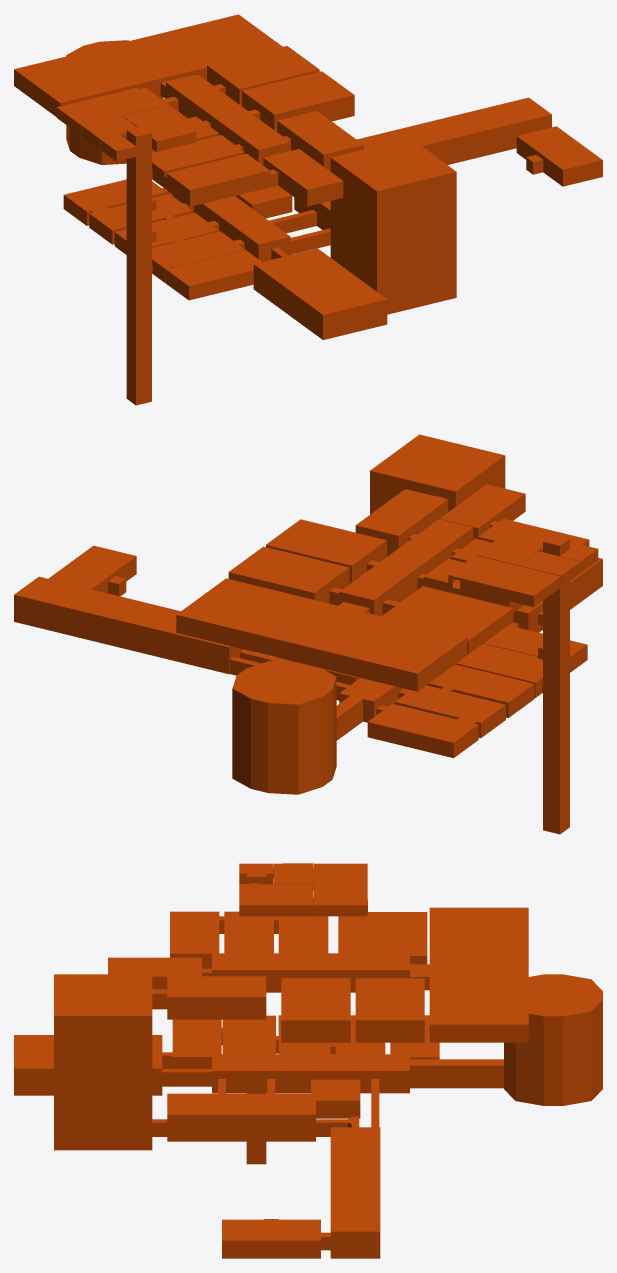
The model's file is total map.obj.
3 renders of one model, top to bottom at view 1: azimuth 30°, elevation 25°; view 2: azimuth 150°, elevation 25°; view 3: azimuth 270°, elevation 25°, orthographic. The views are drawn at different scales.
Visible parts, largest first — view 1: result.003_Cube.018; view 2: result.003_Cube.018; view 3: result.003_Cube.018.
Boxes of the visible parts, <box> form: result.003_Cube.018: <box>14,14,602,405</box>; result.003_Cube.018: <box>14,434,602,834</box>; result.003_Cube.018: <box>14,863,602,1258</box>.
Size of the model in its own units: 119 by 64 by 119.
